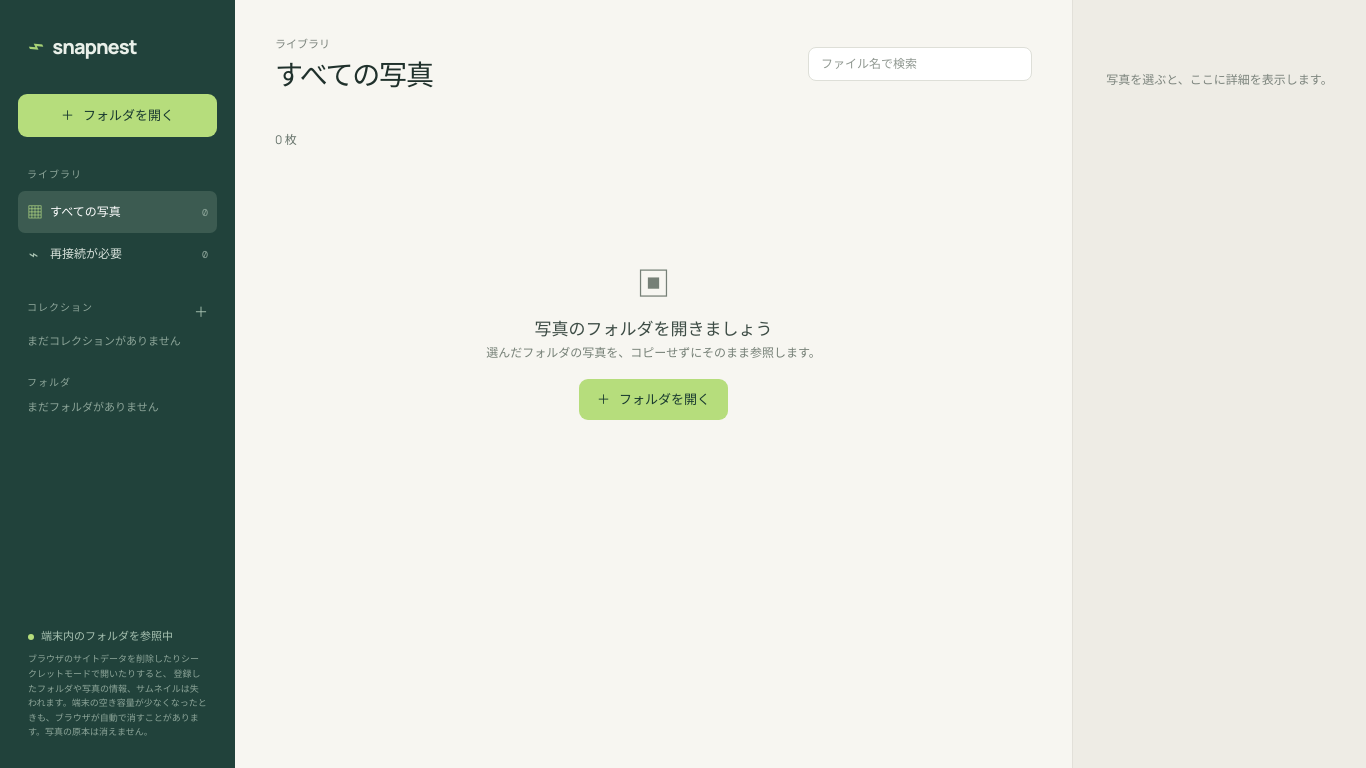
Test: App › フォルダを開く › 開けなかったら理由を通知する
Click the button "＋ フォルダを開く" below "snapnest" at (118, 116), box [18, 94, 217, 137]
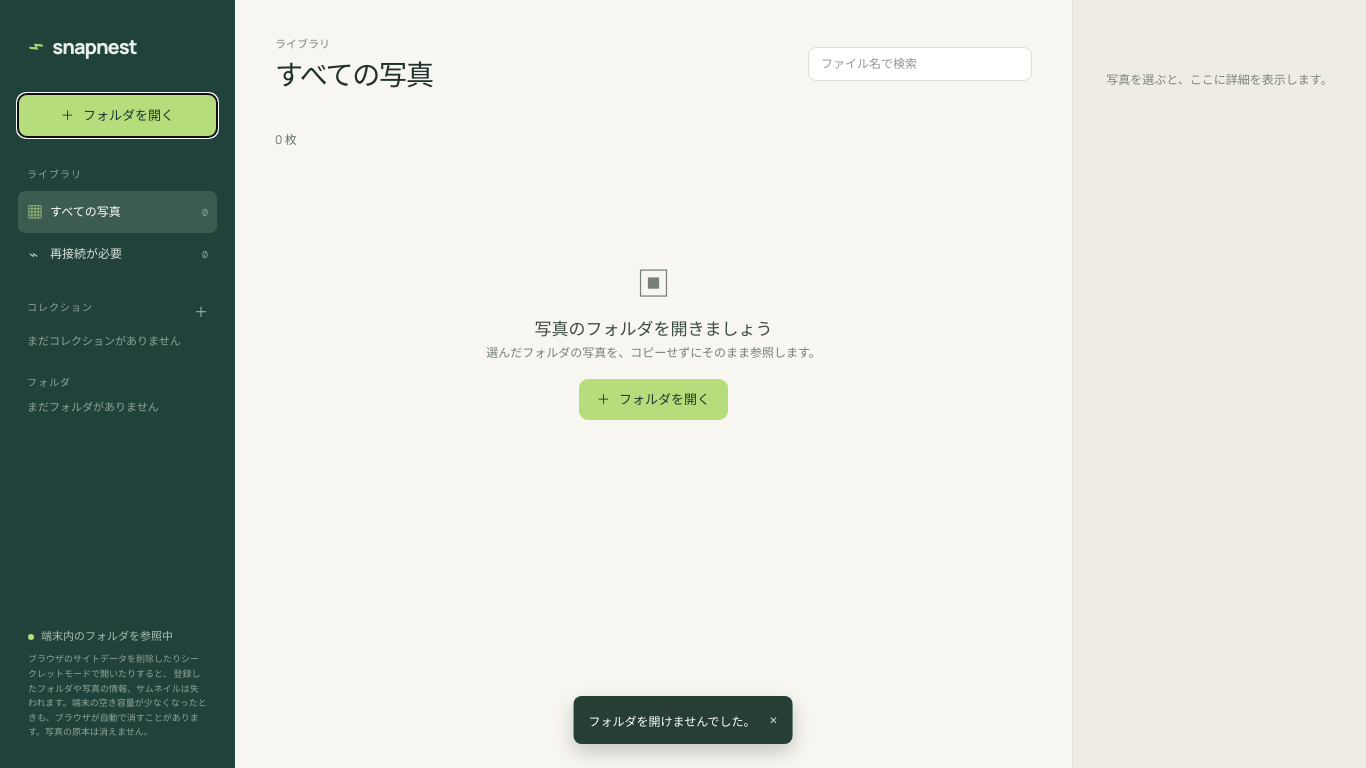
Now the message shows "フォルダを開けませんでした。", box [589, 713, 756, 730]
